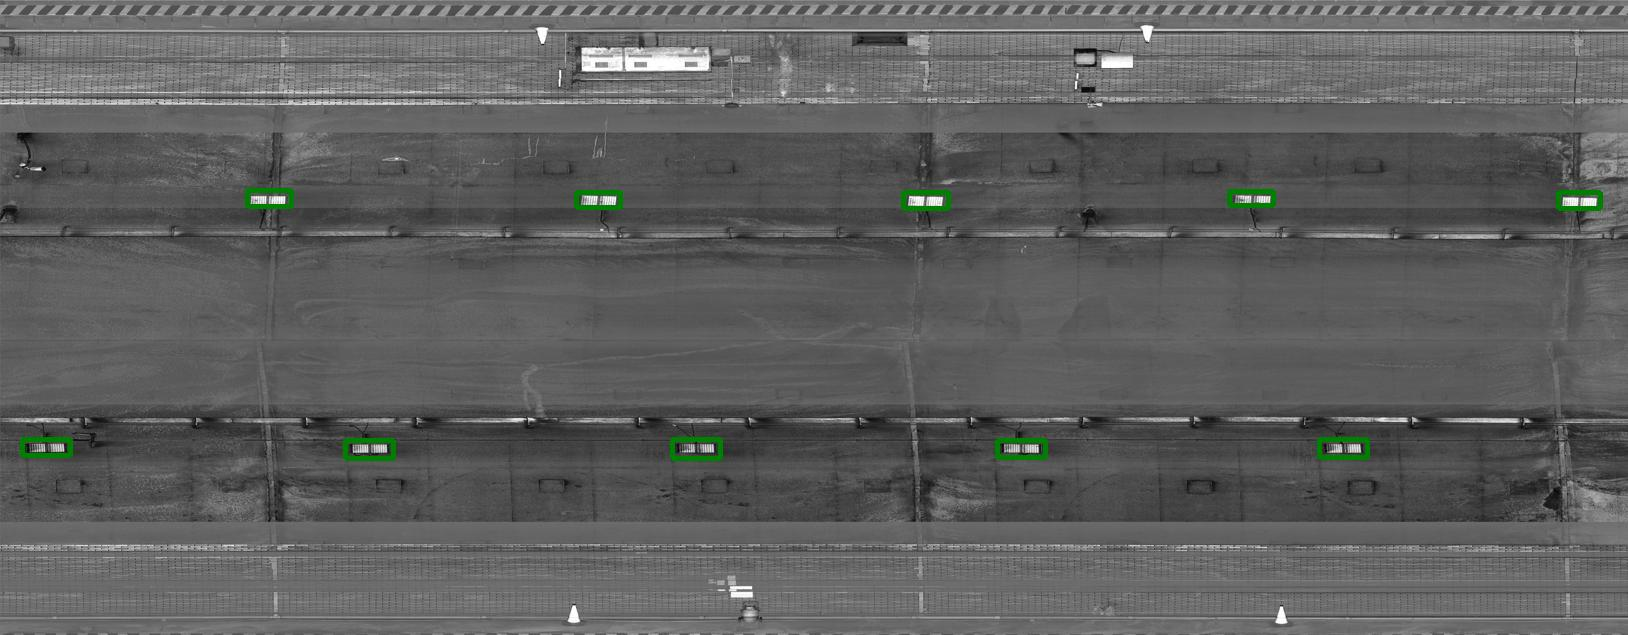light: (343, 439, 394, 459), (991, 436, 1041, 455), (1317, 439, 1367, 459), (19, 436, 69, 455), (243, 188, 293, 208), (571, 188, 621, 208), (670, 439, 720, 459), (902, 190, 952, 210), (1226, 189, 1276, 209), (1552, 193, 1602, 213)
